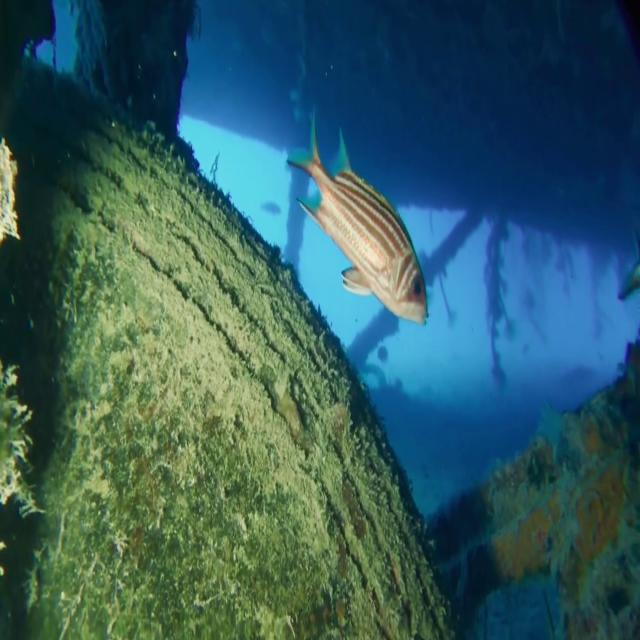Asker Baligi: (285, 106, 430, 327)
